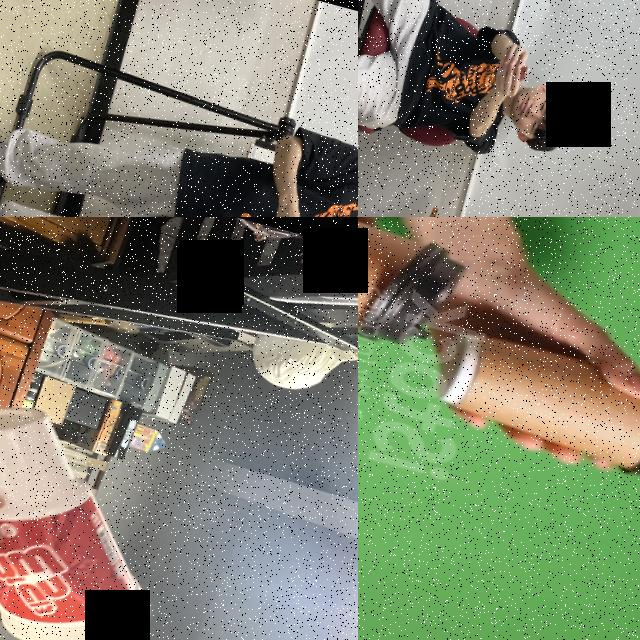cup: (0, 386, 191, 640), (426, 313, 640, 490), (358, 217, 469, 359)
